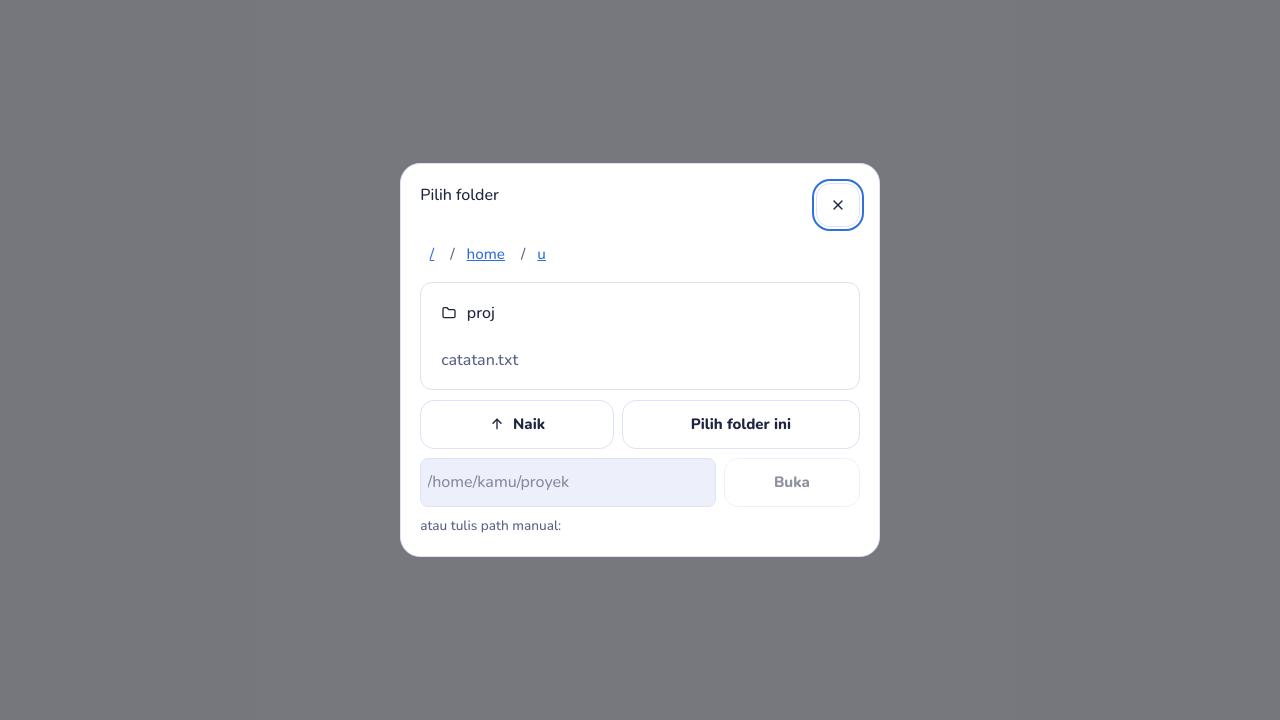
DirPicker (FITUR B) › klik folder menavigasi ke dalamnya
Step 1. Click the list item with test id "dir-entry-proj" → point(449, 313), box [429,291,851,334]
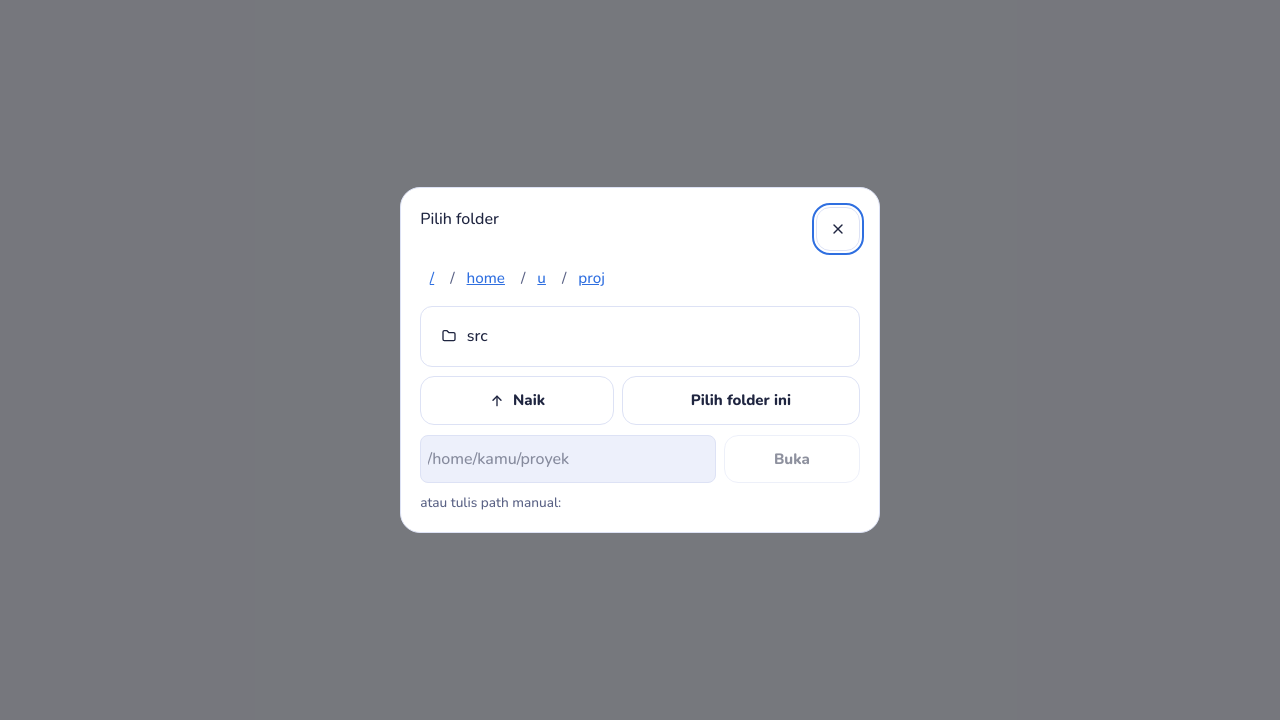
Check: the list item with test id "dir-entry-src" is shown, box [429,315,851,358]
